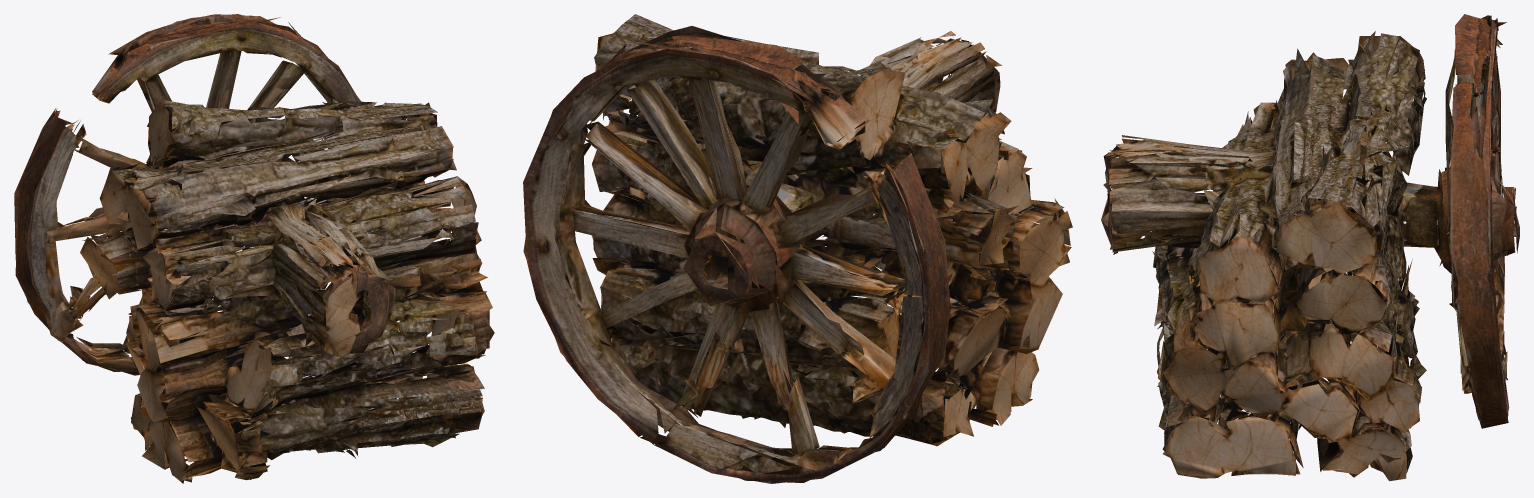
The model's file is WagonWheel.fbx.
3 views of the same model, side by side, from view 1: azimuth 30°, elevation 25°; view 2: azimuth 150°, elevation 25°; view 3: azimuth 270°, elevation 25° (orthographic). The views are drawn at different scales.
Visible parts, largest first — view 1: WagonWheel; view 2: WagonWheel; view 3: WagonWheel.
Boxes of the visible parts, x1,y1,x2,y2 form: WagonWheel: (14, 14, 494, 483); WagonWheel: (523, 14, 1072, 483); WagonWheel: (1101, 14, 1519, 481).
Size of the model in its own units: 102 by 97.46 by 98.63.
Materials: 1 (1 with a texture image).
